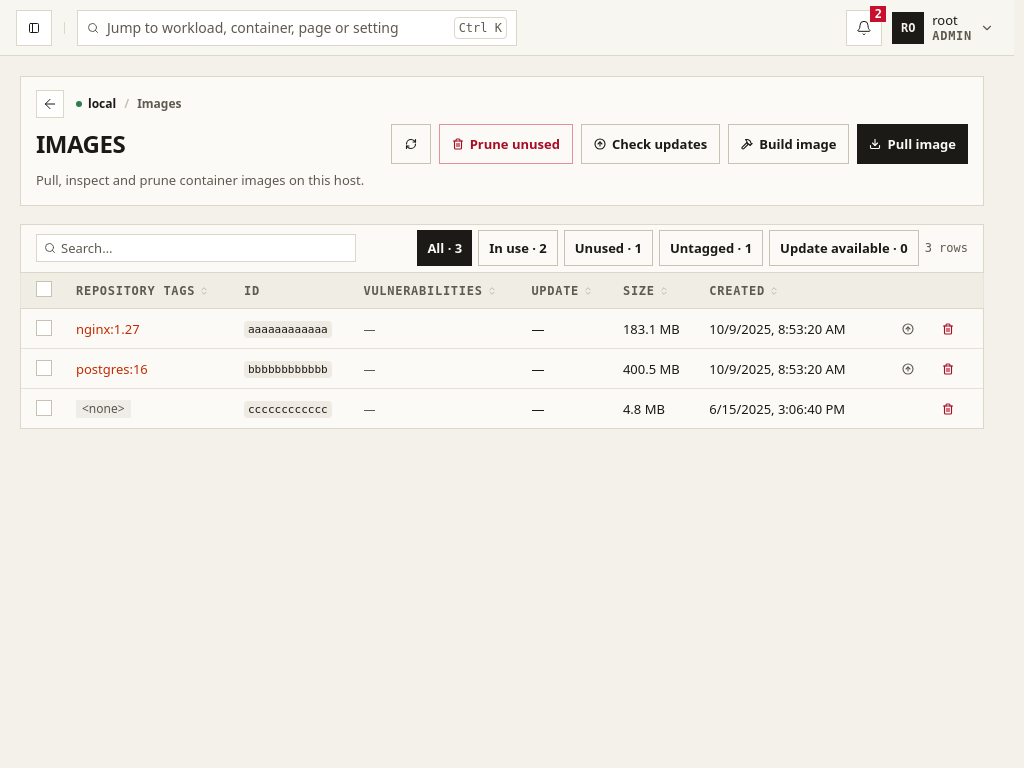
Test case: images page › pulls an image
Click the button "Pull image" at (913, 144), box [858,124,968,164]
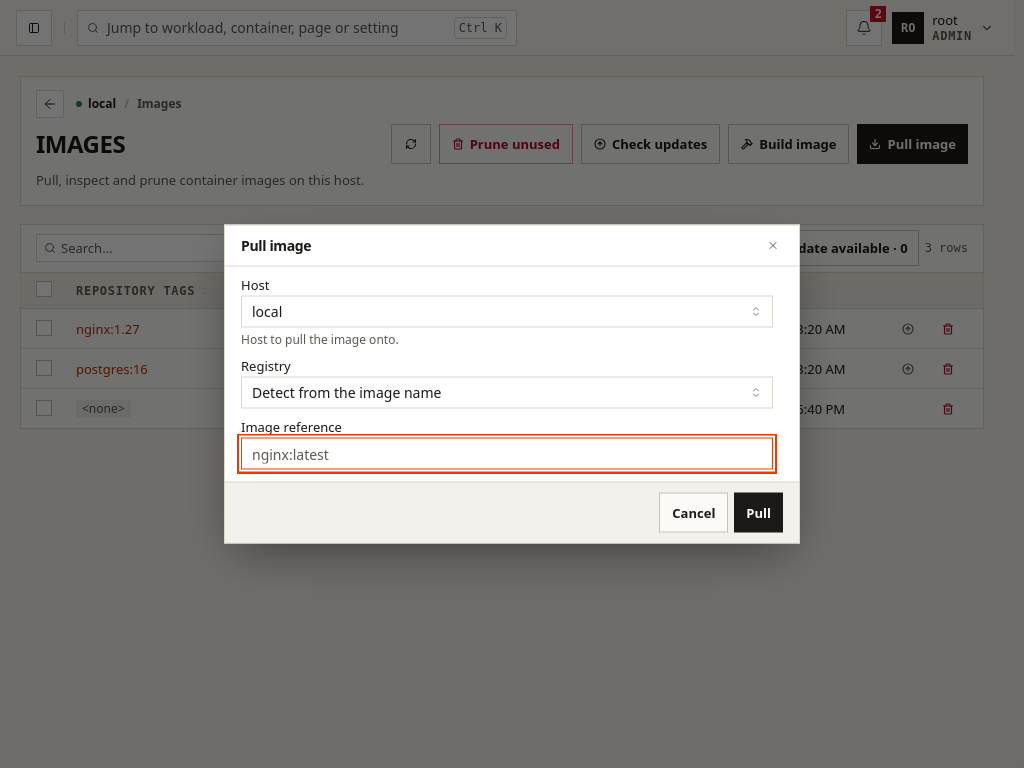
Type "redis:7" into the field labelled "Image reference" at (507, 454), box [241,438,773,470]
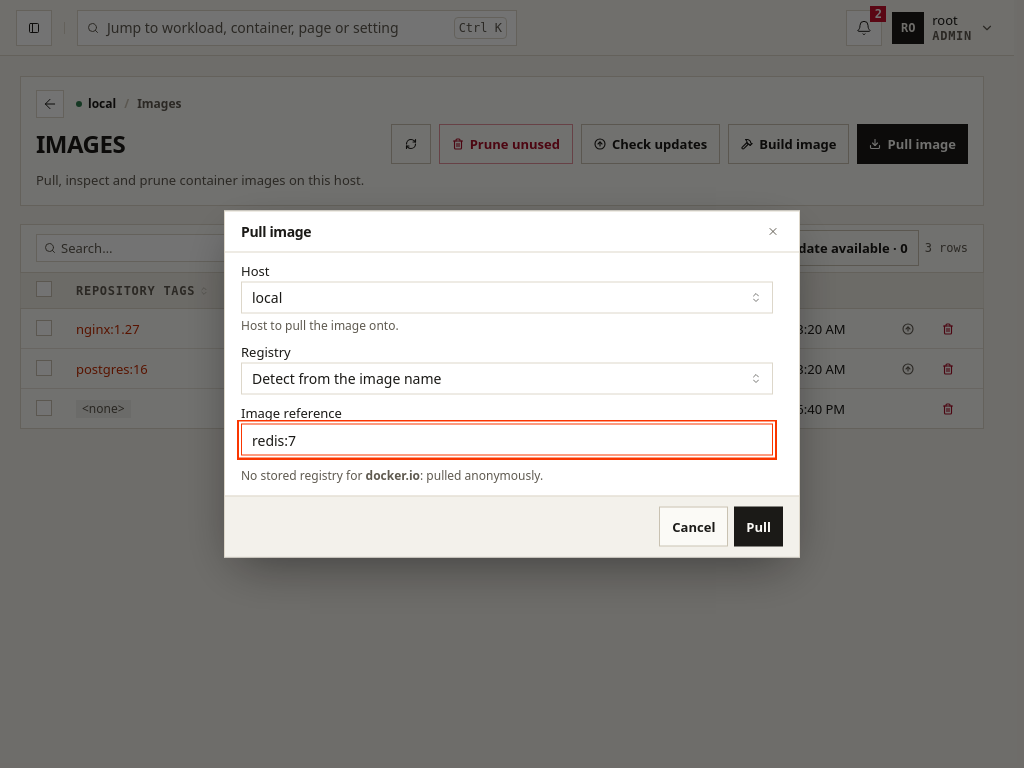
Click the button "Pull" at (759, 526), box [734,506,783,546]
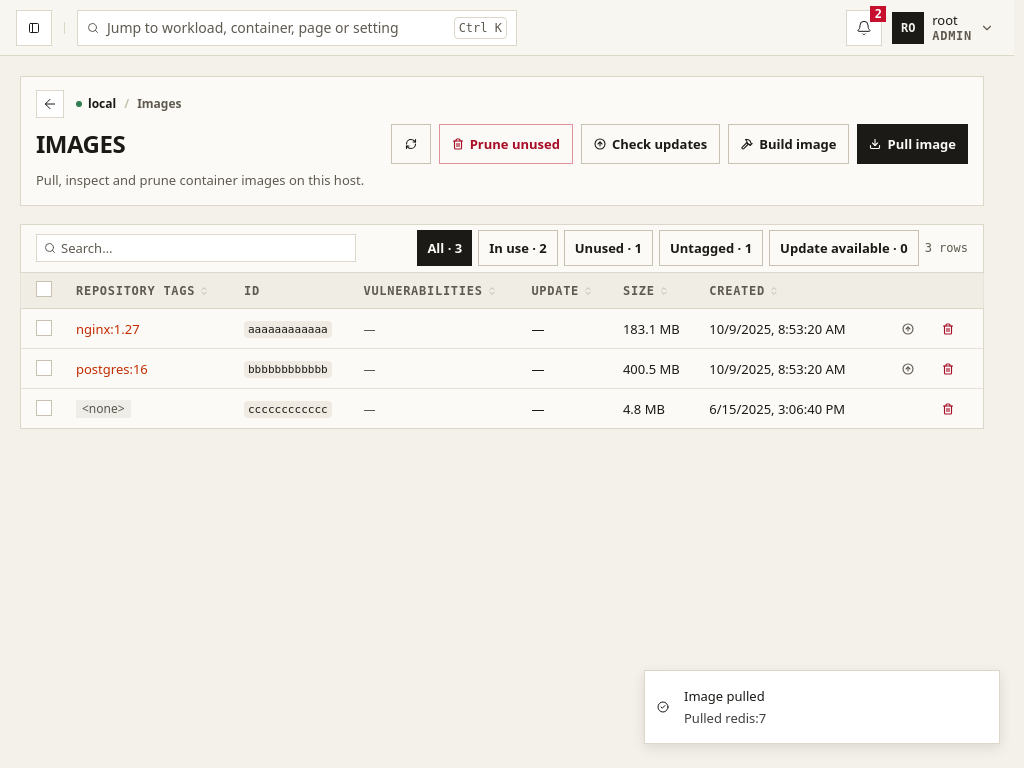
Result: the text "Image pulled" is shown at [684,687,766,707]
